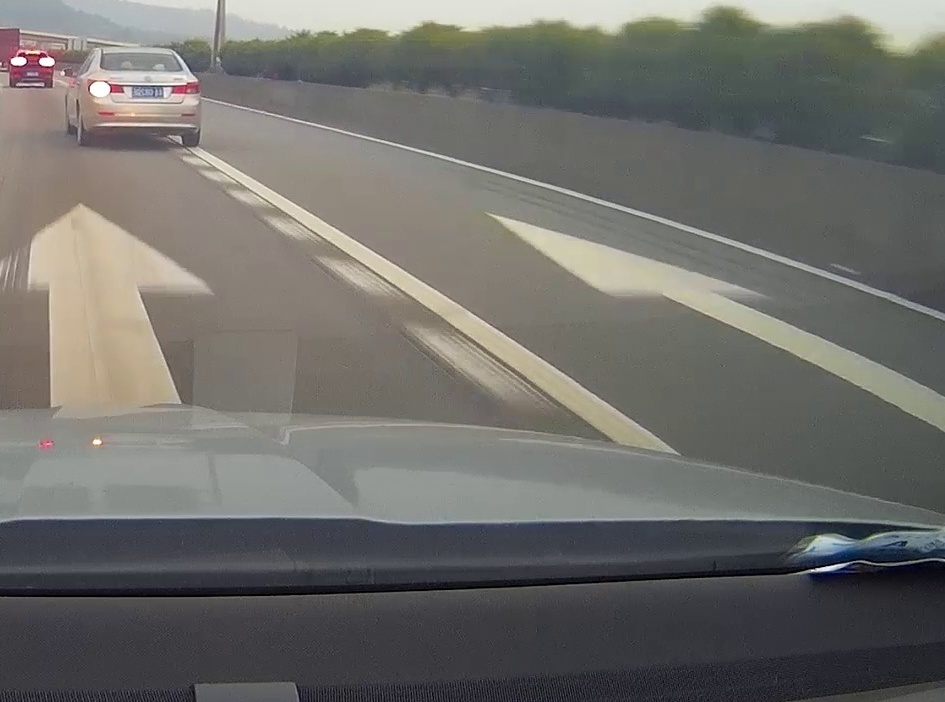L_light: (88, 79, 124, 94), (13, 60, 24, 64)
R_light: (171, 81, 201, 94), (41, 59, 53, 64)
T_light: (132, 53, 149, 57), (27, 51, 39, 54)
day-brake: (10, 50, 55, 88)
day-left: (86, 47, 202, 146)
